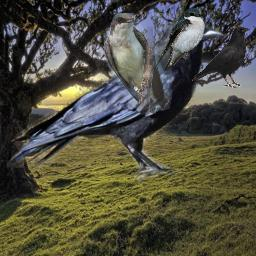Crow: (7, 14, 228, 184), (192, 25, 250, 88)
Swallow: (104, 13, 172, 115), (157, 6, 206, 72)
